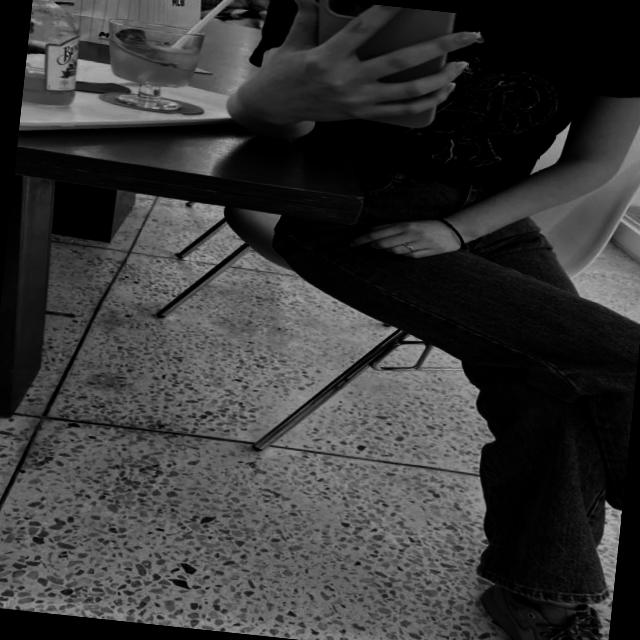denimpants: (237, 153, 640, 611)
shortsleeve: (238, 0, 640, 200)
